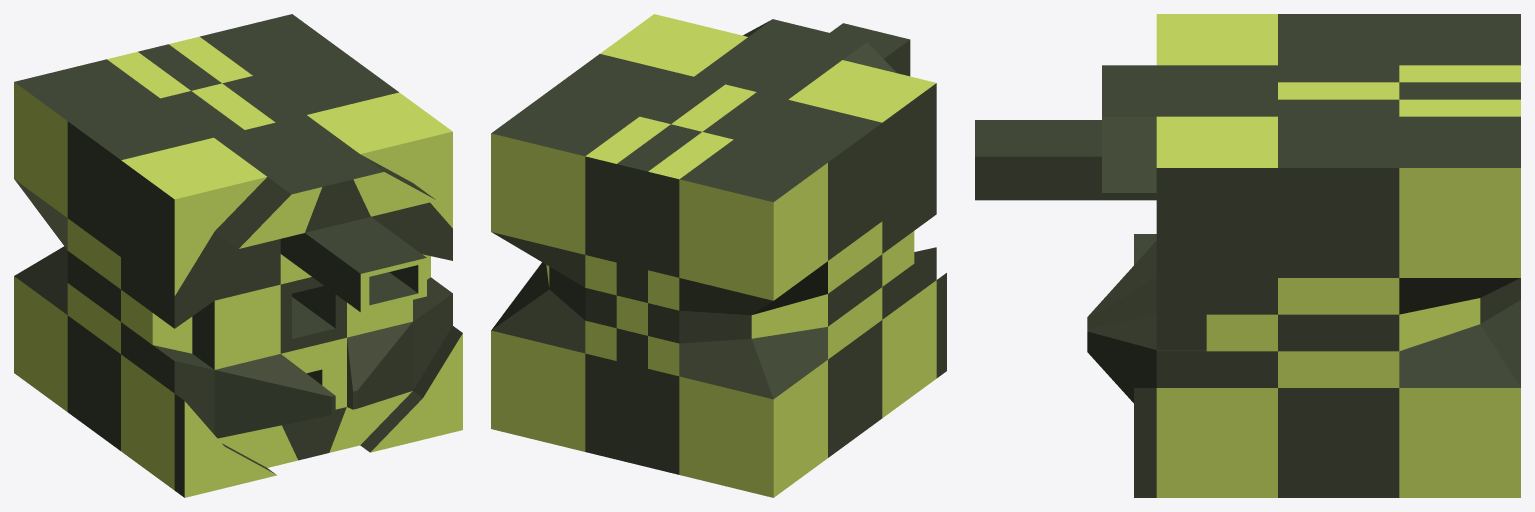
Rendered from Torreta2.fbx.
3 renders of one model, left to right at view 1: azimuth 30°, elevation 25°; view 2: azimuth 150°, elevation 25°; view 3: azimuth 270°, elevation 25°, orthographic. The views are drawn at different scales.
Parts seen in each view (by area): view 1: Torreta2; view 2: Torreta2; view 3: Torreta2.
Part boxes in pixels (x1,y1,x2,y2): Torreta2: [14, 14, 462, 497]; Torreta2: [491, 14, 946, 497]; Torreta2: [975, 14, 1520, 497].
Size of the model in its own units: 200 by 200 by 300.
